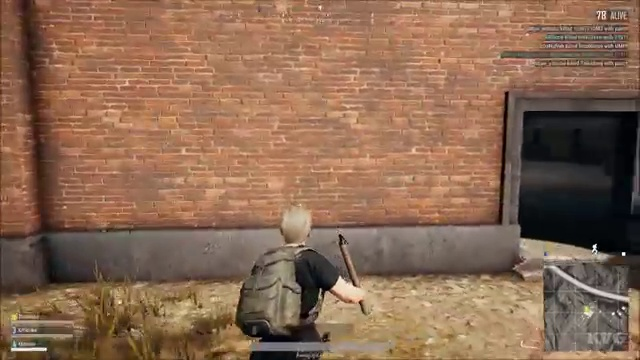Player: (226, 199, 383, 331)
